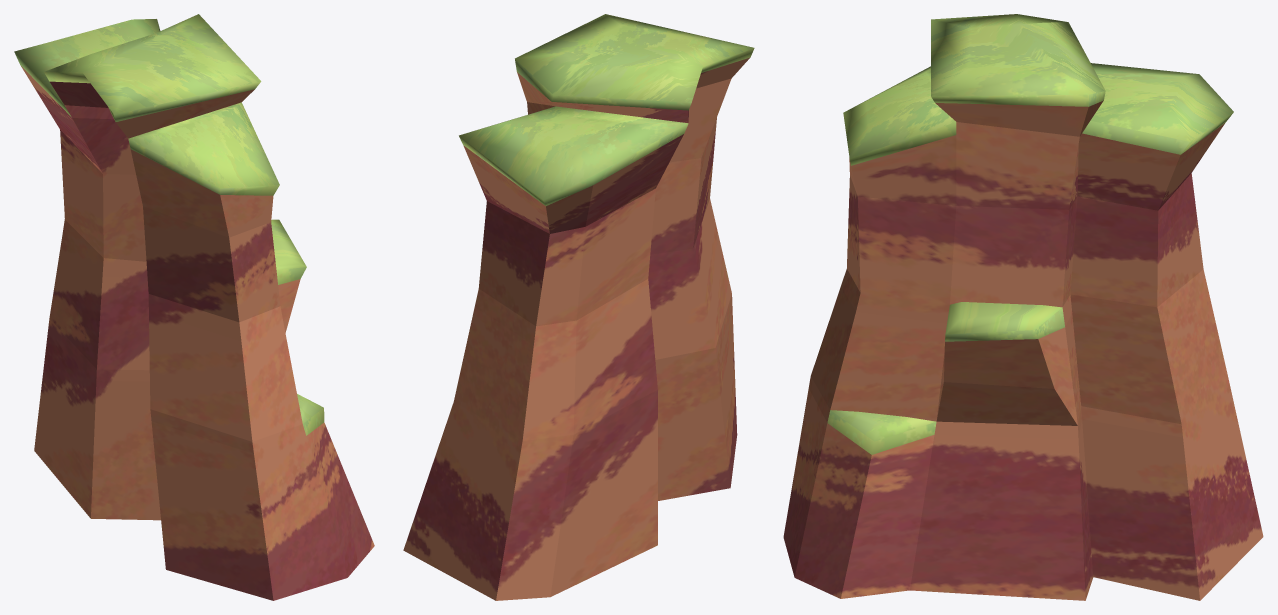
File: rock5.fbx
3 renders of one model, left to right at view 1: azimuth 30°, elevation 25°; view 2: azimuth 150°, elevation 25°; view 3: azimuth 270°, elevation 25°, orthographic. The views are drawn at different scales.
Parts seen in each view (by area): view 1: rock5; view 2: rock5; view 3: rock5.
Part boxes in pixels (x1=…): rock5: x1=14, y1=14, x2=374, y2=600; rock5: x1=403, y1=14, x2=754, y2=600; rock5: x1=783, y1=14, x2=1263, y2=600.
Size of the model in its own units: 427 by 868 by 773.
